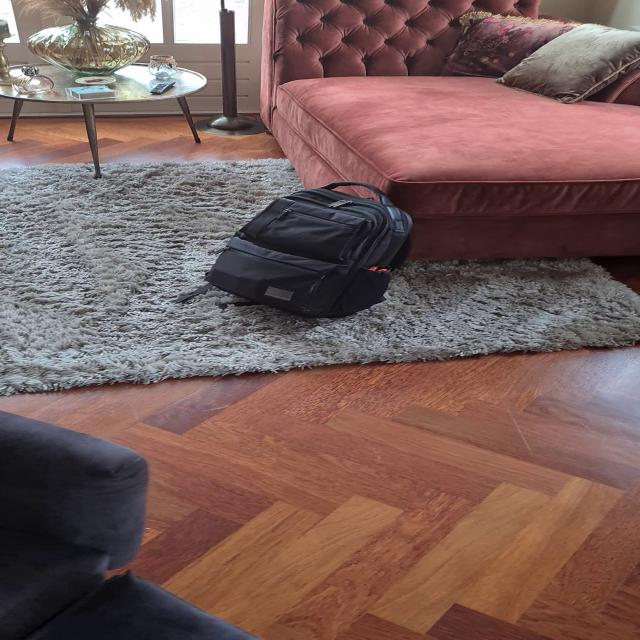backpack: (196, 178, 421, 322)
